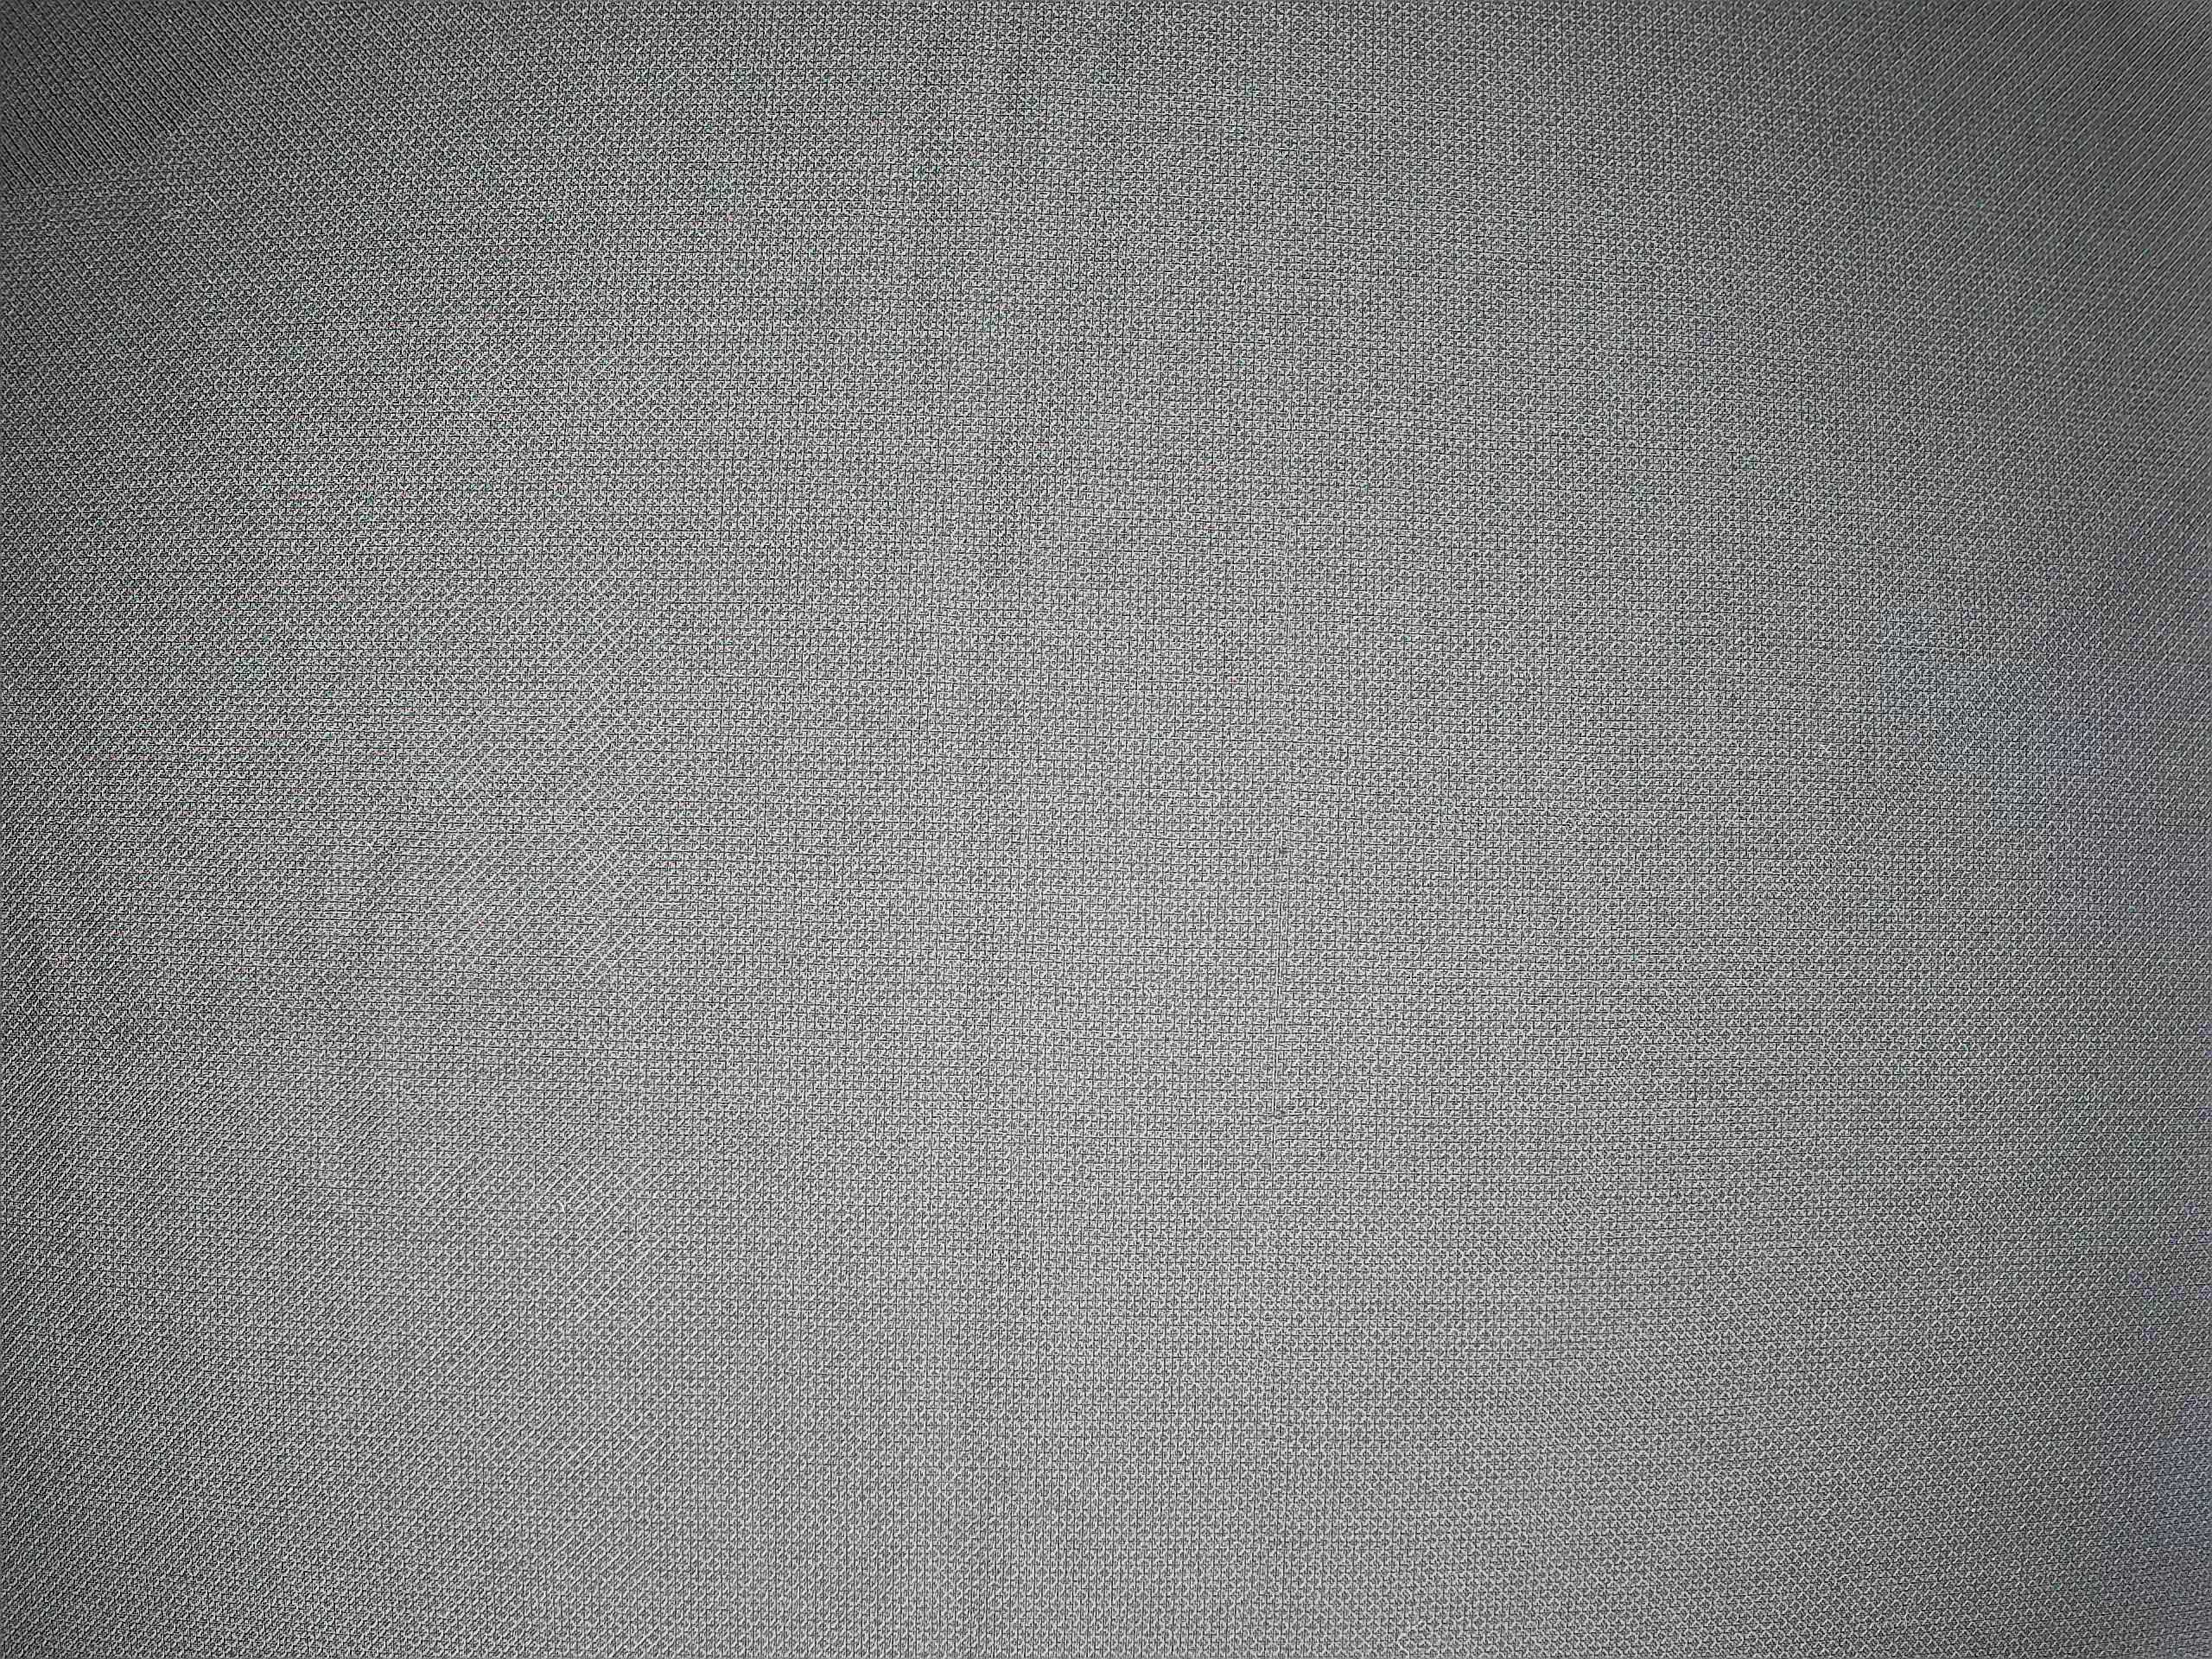hanging-warp: (1242, 704, 1322, 1236)
